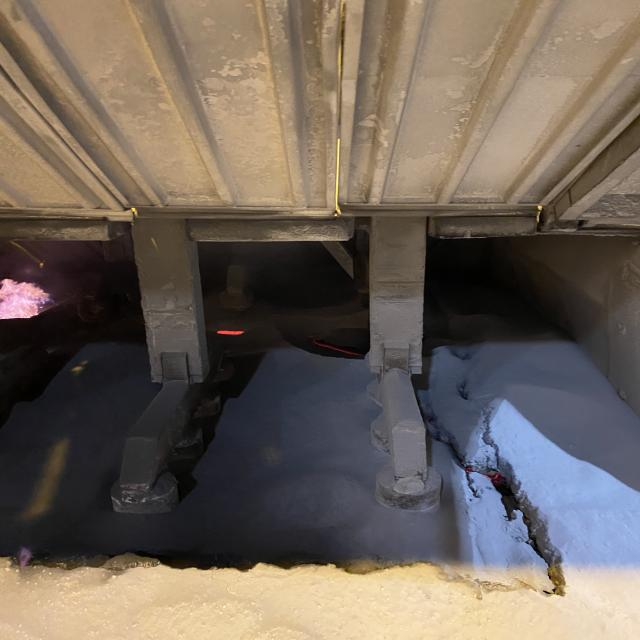Blackspot: (218, 321, 252, 330)
Redspot: (314, 340, 356, 356), (332, 328, 369, 346), (217, 330, 244, 336)
